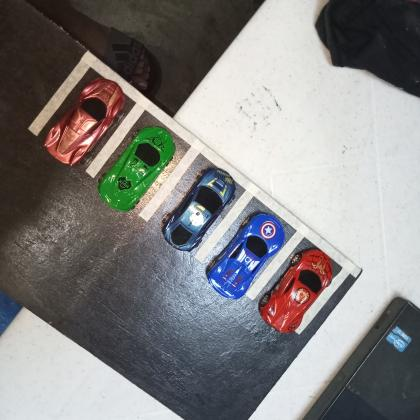Car: (43, 77, 126, 168), (97, 125, 177, 213), (206, 212, 286, 300), (161, 167, 237, 253), (258, 248, 334, 334)
